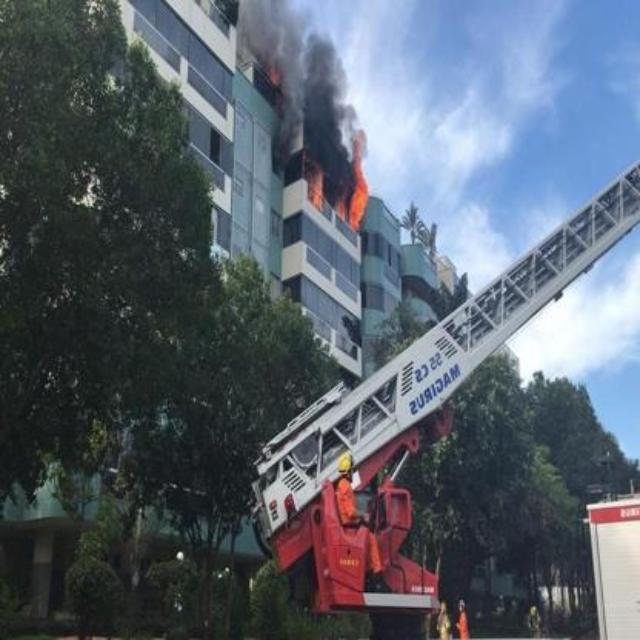Fire: (351, 128, 372, 228), (309, 162, 327, 208), (266, 66, 284, 85)
Smoke: (308, 34, 350, 168), (247, 2, 305, 68)
